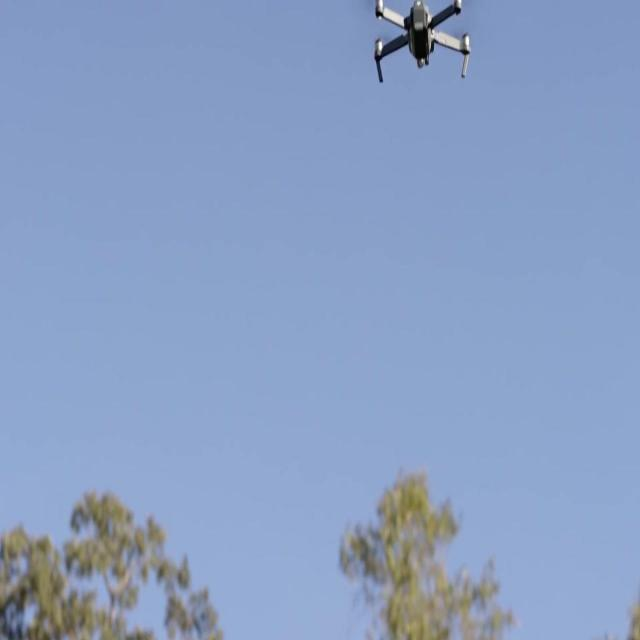UAV: (374, 0, 471, 83)
